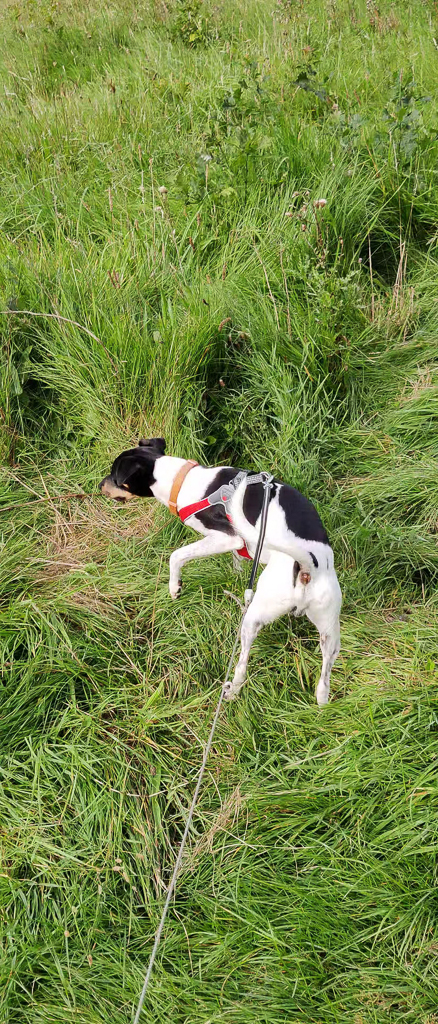Dog: (88, 422, 360, 722)
